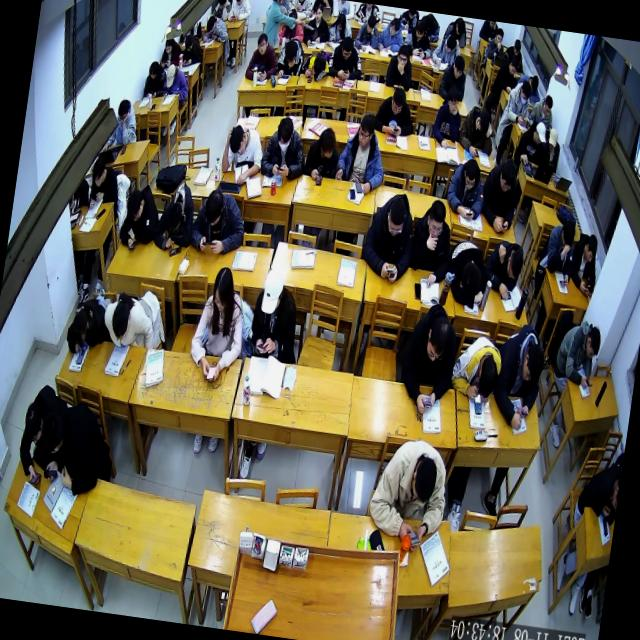bow: (189, 186, 249, 256), (450, 332, 504, 402), (152, 177, 200, 252), (442, 235, 490, 308), (116, 182, 162, 253), (64, 294, 111, 359), (444, 156, 489, 222), (482, 236, 526, 302), (456, 102, 498, 158), (430, 32, 462, 68), (300, 48, 332, 82), (202, 11, 234, 43)
down: (408, 455, 438, 507), (424, 316, 451, 364), (260, 266, 284, 316), (210, 266, 234, 312), (475, 356, 501, 398), (520, 341, 546, 383), (38, 416, 66, 455), (22, 400, 46, 444), (424, 199, 447, 239), (202, 187, 226, 225), (110, 300, 132, 340), (386, 197, 408, 235), (70, 306, 92, 341), (498, 154, 518, 192), (275, 115, 295, 152), (124, 188, 145, 222), (584, 327, 603, 362), (228, 126, 248, 158), (164, 198, 184, 230), (506, 246, 525, 279), (461, 159, 478, 192), (474, 108, 492, 138), (560, 219, 577, 249), (584, 233, 600, 264), (91, 156, 106, 186), (390, 86, 406, 114), (283, 40, 299, 65), (116, 98, 131, 124), (451, 54, 466, 80), (532, 122, 548, 146), (518, 81, 532, 107), (165, 64, 178, 90), (547, 125, 559, 151), (312, 53, 326, 75), (542, 94, 554, 118), (341, 35, 354, 56), (148, 58, 160, 78), (414, 20, 426, 40), (205, 15, 217, 34), (508, 57, 520, 76), (184, 31, 195, 51), (337, 10, 348, 29), (288, 10, 298, 30), (366, 15, 376, 34), (513, 36, 522, 54), (164, 36, 174, 52), (217, 0, 227, 10), (234, 0, 244, 5)
lookup: (356, 112, 374, 146), (256, 30, 270, 56), (446, 88, 460, 112), (396, 44, 411, 65), (314, 1, 325, 20), (495, 26, 505, 44)
sit: (364, 434, 453, 552), (32, 398, 118, 501), (395, 297, 462, 418), (186, 264, 252, 386), (489, 320, 548, 430), (246, 264, 308, 362), (12, 381, 68, 489), (334, 110, 391, 194), (554, 316, 604, 389), (258, 115, 310, 182), (478, 158, 521, 235), (100, 292, 157, 350), (219, 120, 266, 184), (540, 216, 580, 288), (374, 82, 419, 138), (567, 231, 603, 297), (302, 124, 342, 182), (430, 84, 466, 148), (87, 155, 123, 210), (244, 31, 281, 84), (325, 35, 365, 83), (513, 118, 548, 168), (384, 42, 416, 94), (503, 76, 535, 127), (438, 50, 470, 100), (274, 33, 308, 80), (303, 1, 334, 48), (402, 18, 436, 60), (112, 97, 141, 144), (376, 16, 408, 54), (161, 60, 192, 98), (278, 5, 308, 44), (528, 92, 556, 133), (538, 125, 562, 172), (261, 0, 285, 46), (354, 12, 382, 51), (494, 54, 520, 94), (500, 35, 528, 71), (143, 59, 169, 97), (328, 11, 356, 45), (160, 36, 184, 70), (181, 30, 205, 64), (486, 25, 507, 59), (226, 0, 253, 24), (211, 0, 233, 19)
